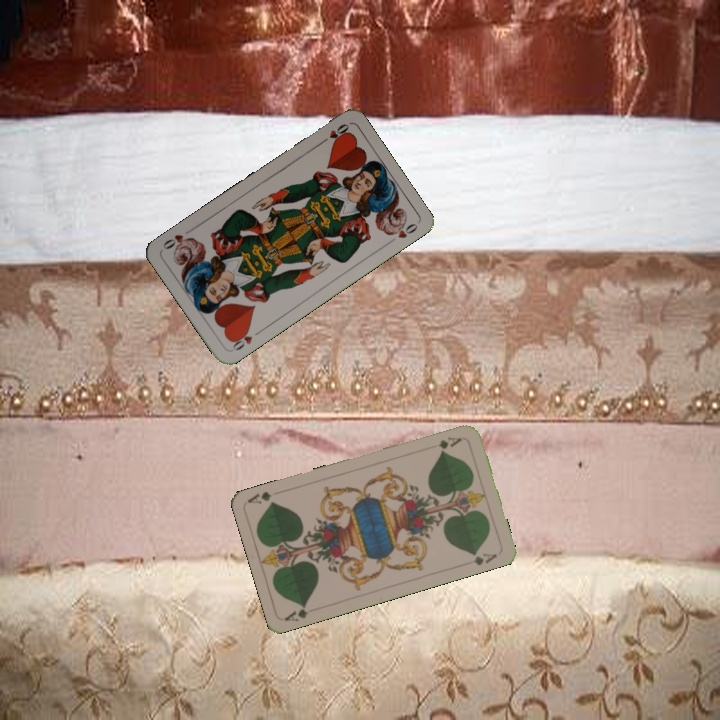GA: (426, 433, 464, 454), (281, 600, 311, 624)
HO: (227, 325, 264, 354), (315, 119, 352, 148)
